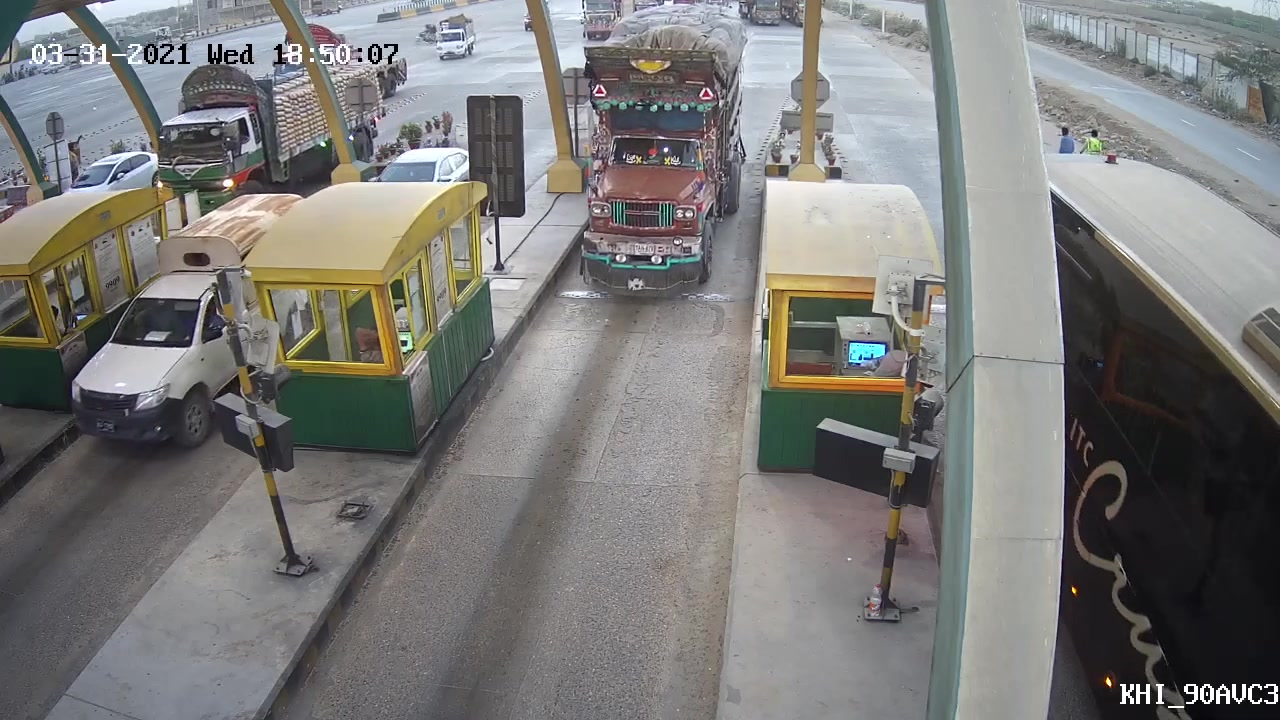F5: (558, 1, 753, 300)
